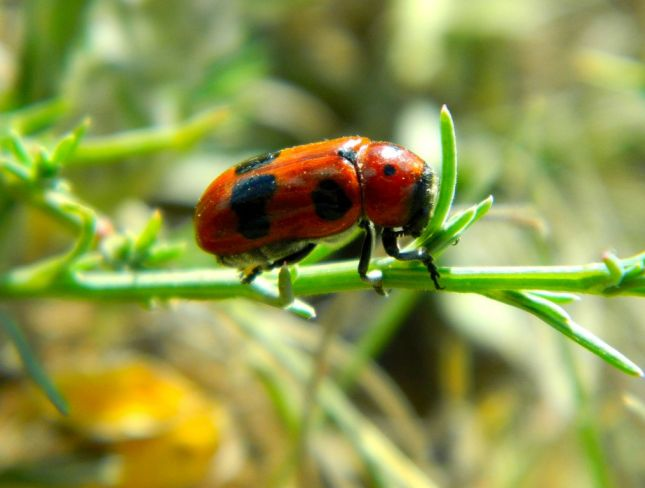Clytra_novempunctata: (183, 129, 449, 309)
